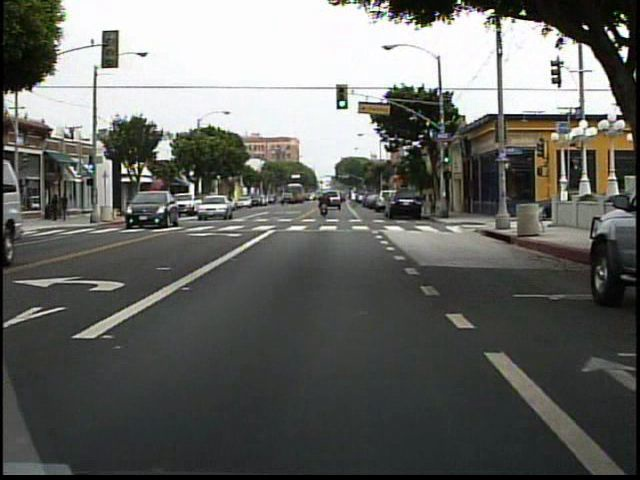person: (50, 193, 63, 222), (318, 189, 331, 218), (63, 191, 74, 222)
